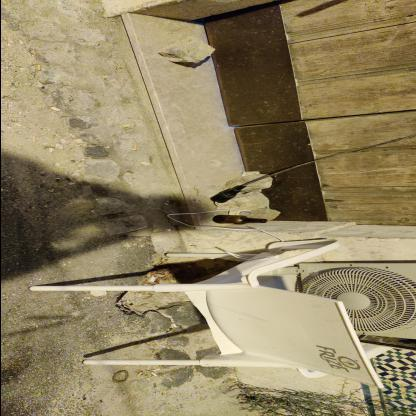cam: (212, 216, 268, 226)
kopuk: (134, 146, 138, 152)
